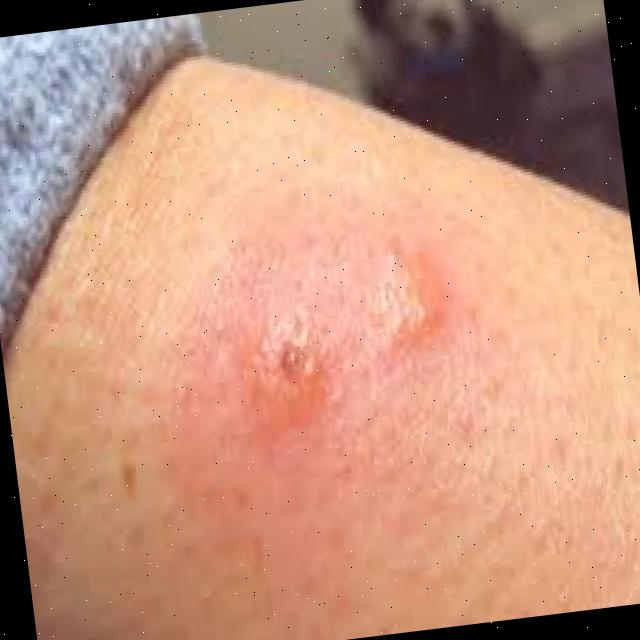kan emici bocekler: (190, 217, 474, 461)
